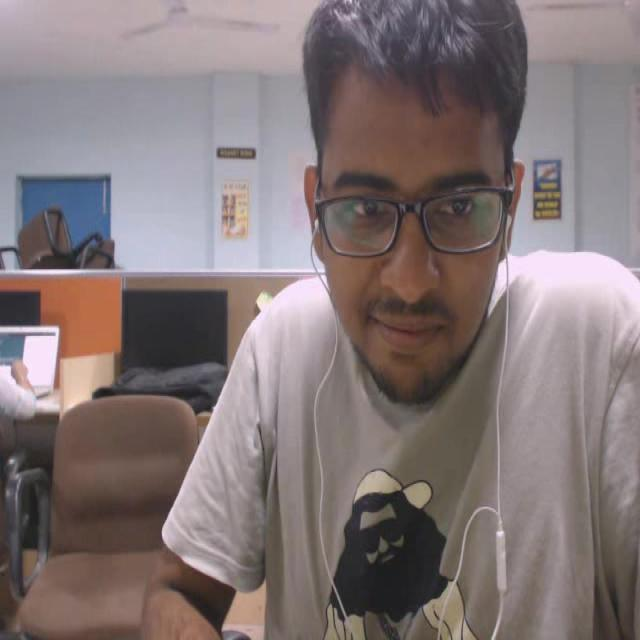Engaged: (264, 0, 550, 424)
